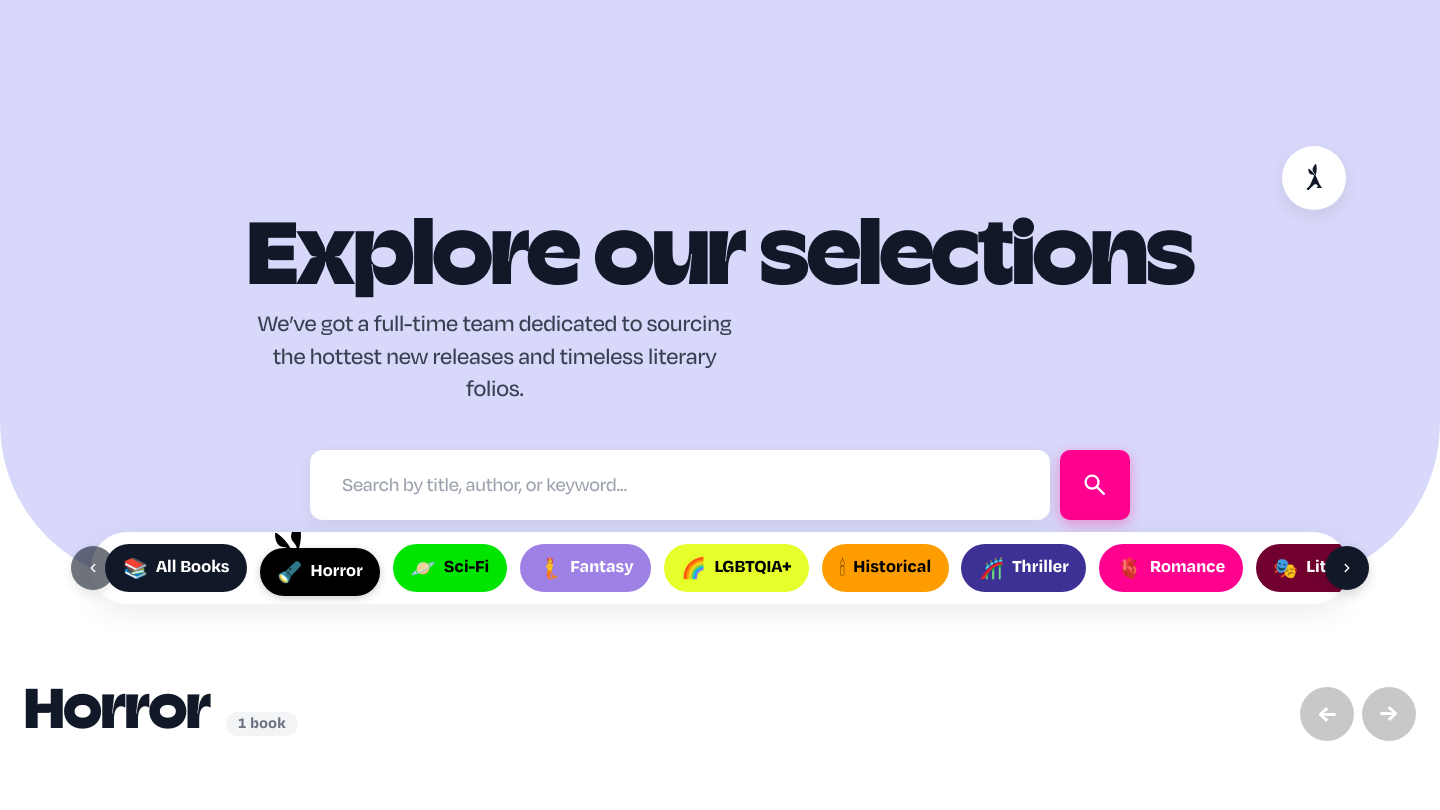
Test: StoreAllBooksPage Component › resets filter when All Books tag is clicked
Expected: the text "Monsters of Ohio" is not shown
What coordinates should you click on to do the following:
click the menu item with test id "genre-filter-all"
I would click on:
 (176, 568)
Its box is x1=105 y1=544 x2=247 y2=592.
(page scrolled)
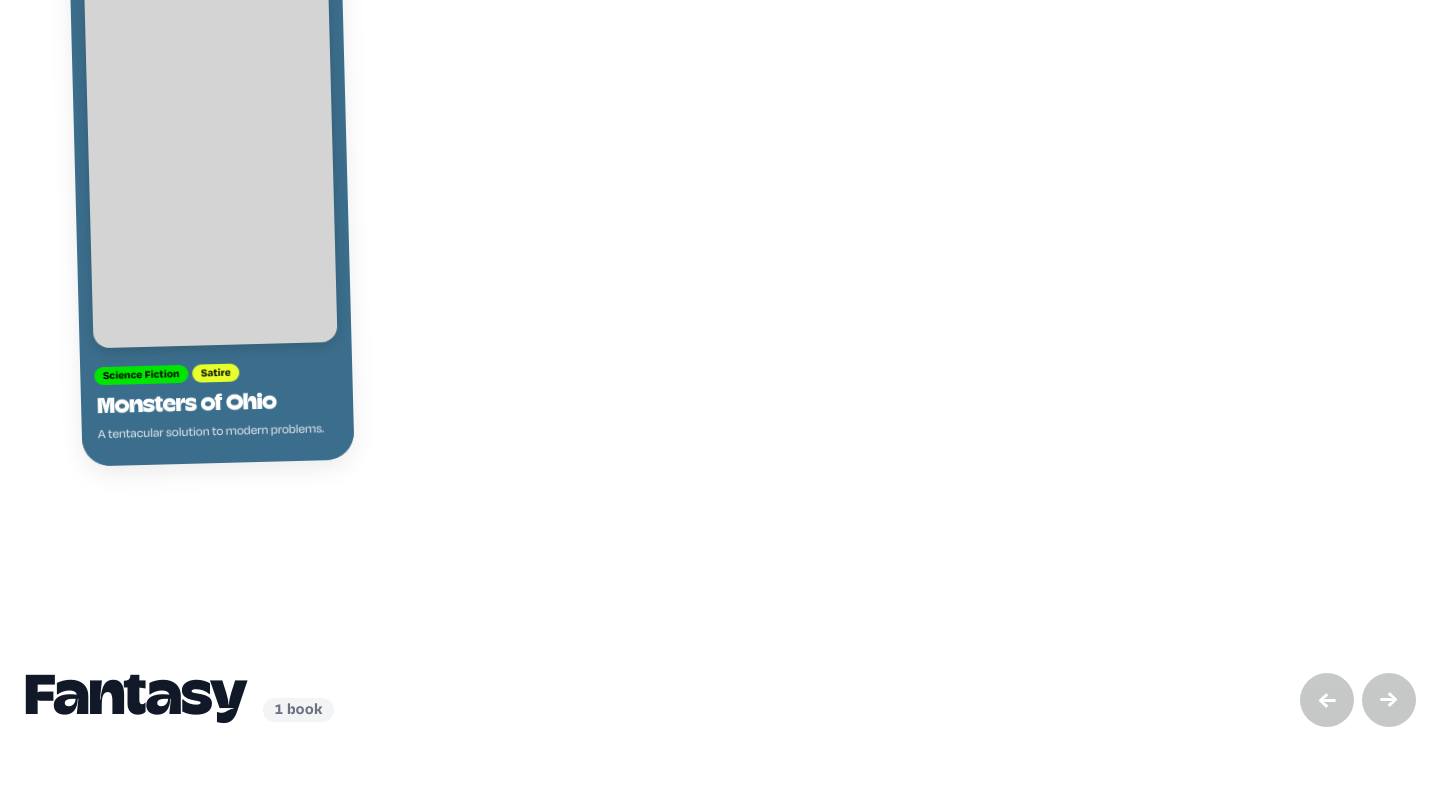
Expected: the heading "Monsters of Ohio" is shown, x1=97 y1=392 x2=277 y2=418
